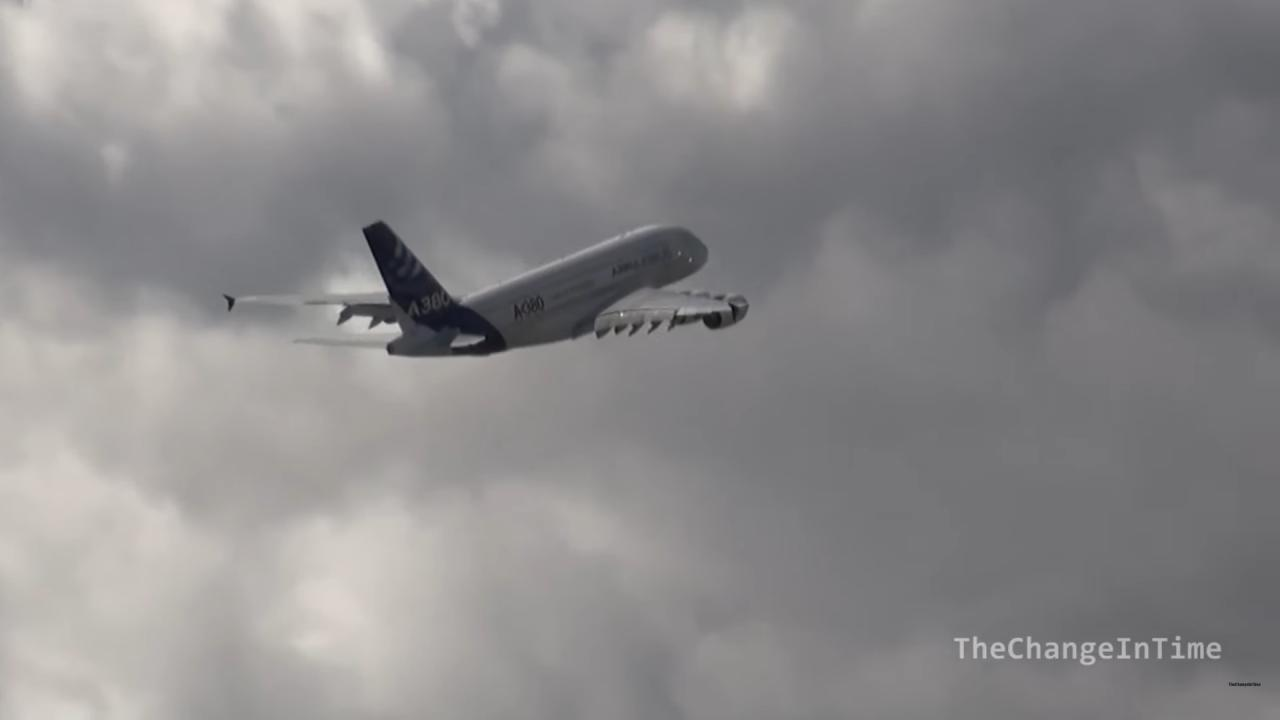Airplane: (210, 205, 759, 369)
